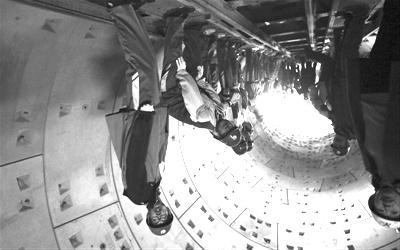helmet: (367, 185, 400, 230), (146, 202, 174, 236), (216, 119, 242, 147), (331, 133, 352, 156), (232, 137, 248, 156), (242, 131, 255, 152)
